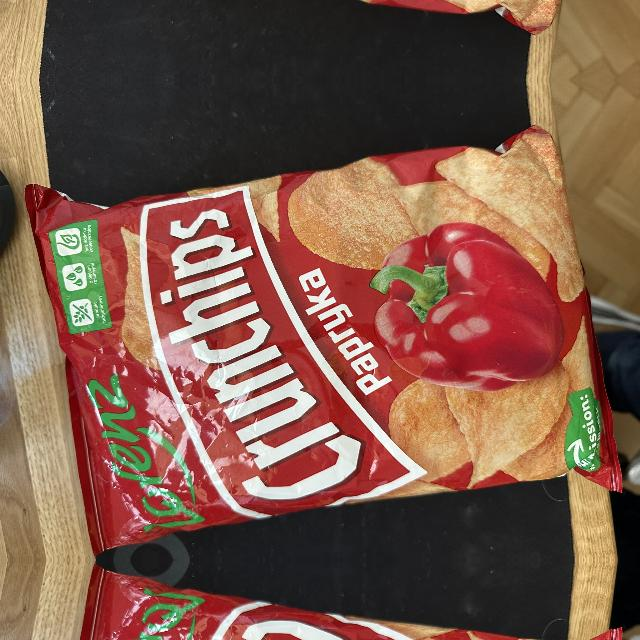crunchips: (141, 187, 429, 518)
